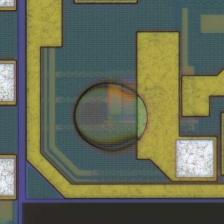COATING BAD: (70, 74, 154, 158)
